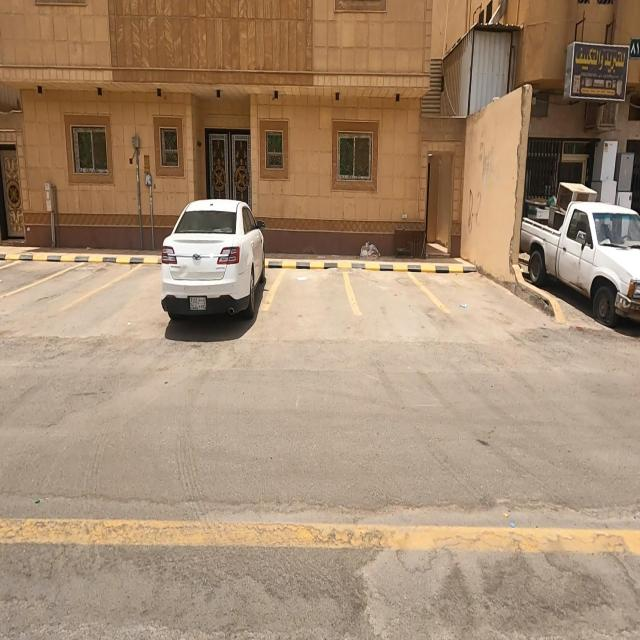Graffiti: (467, 188, 485, 232)
